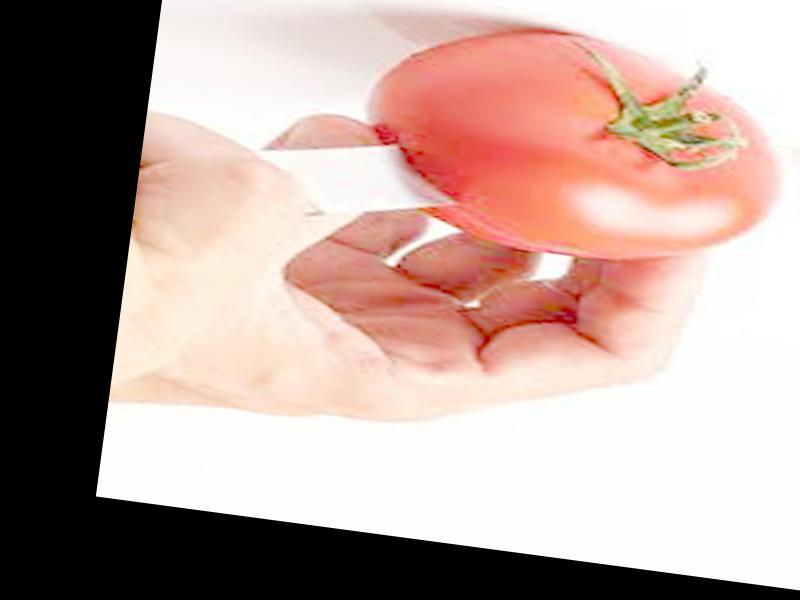Tomato: (352, 10, 789, 283)
